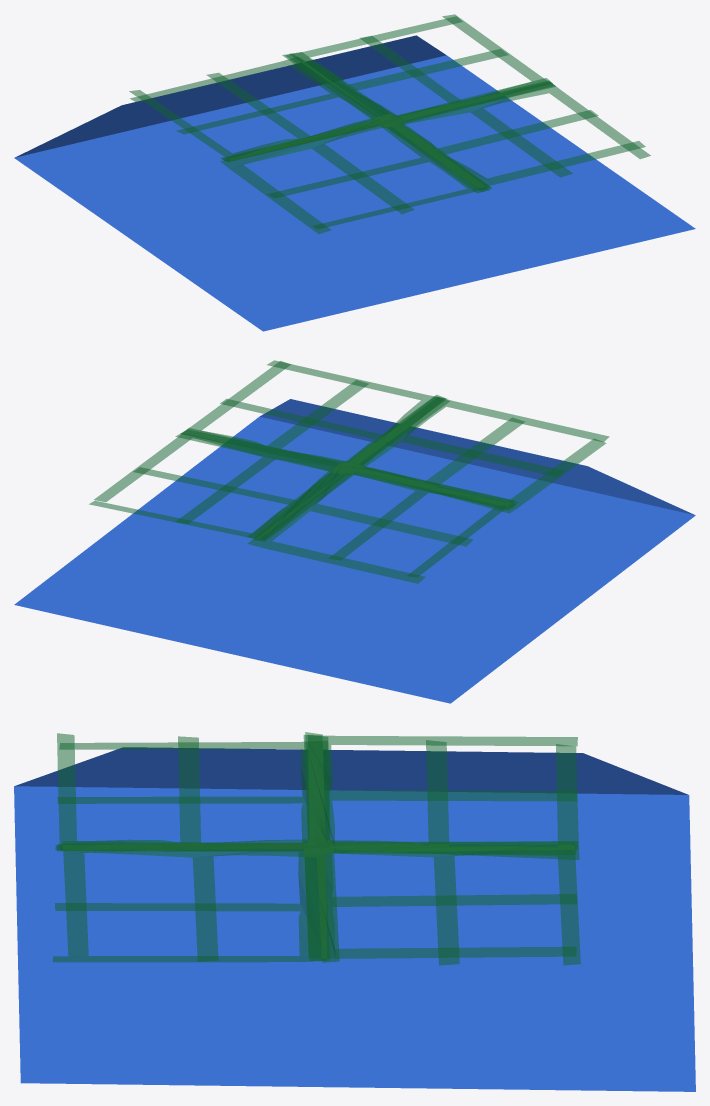
File: Irrigation.glb
The picture shows the model from 3 angles, top to bottom: view 1: azimuth 30°, elevation 25°; view 2: azimuth 150°, elevation 25°; view 3: azimuth 270°, elevation 25°; orthographic projection. The views are drawn at different scales.
Parts seen in each view (by area): view 1: Irrigation.004, Irrigation.001, Irrigation.006, Irrigation.002, Irrigation.005, Irrigation, Irrigation.003, Irrigation.007, Irrigation.008; view 2: Irrigation.004, Irrigation.007, Irrigation.002, Irrigation.008, Irrigation.006, Irrigation.003, Irrigation.001, Irrigation.005, Irrigation; view 3: Irrigation.004, Irrigation.002, Irrigation.006, Irrigation.005, Irrigation.003, Irrigation.007, Irrigation.008, Irrigation.001, Irrigation.
Part boxes in pixels (left/top/right/bottom): Irrigation.004: left=14, top=35, right=695, bottom=331; Irrigation.001: left=220, top=114, right=491, bottom=233; Irrigation.006: left=285, top=16, right=555, bottom=124; Irrigation.002: left=129, top=52, right=401, bottom=160; Irrigation.005: left=386, top=78, right=645, bottom=187; Irrigation: left=384, top=82, right=650, bottom=193; Irrigation.003: left=282, top=14, right=554, bottom=127; Irrigation.007: left=130, top=59, right=399, bottom=161; Irrigation.008: left=221, top=123, right=489, bottom=229; Irrigation.004: left=14, top=399, right=695, bottom=703; Irrigation.007: left=247, top=461, right=517, bottom=583; Irrigation.002: left=247, top=462, right=514, bottom=577; Irrigation.008: left=349, top=397, right=609, bottom=510; Irrigation.006: left=89, top=430, right=358, bottom=539; Irrigation.003: left=94, top=428, right=353, bottom=541; Irrigation.001: left=338, top=395, right=606, bottom=513; Irrigation.005: left=175, top=360, right=445, bottom=475; Irrigation: left=182, top=361, right=449, bottom=467; Irrigation.004: left=14, top=747, right=695, bottom=1091; Irrigation.002: left=303, top=734, right=577, bottom=854; Irrigation.006: left=303, top=841, right=580, bottom=965; Irrigation.005: left=62, top=841, right=339, bottom=962; Irrigation.003: left=305, top=841, right=578, bottom=958; Irrigation.007: left=305, top=732, right=579, bottom=859; Irrigation.008: left=57, top=733, right=330, bottom=850; Irrigation.001: left=55, top=741, right=329, bottom=850; Irrigation: left=52, top=843, right=326, bottom=962.
Bounding box in the file's own units: 3.2 × 0.6088 × 3.17.
